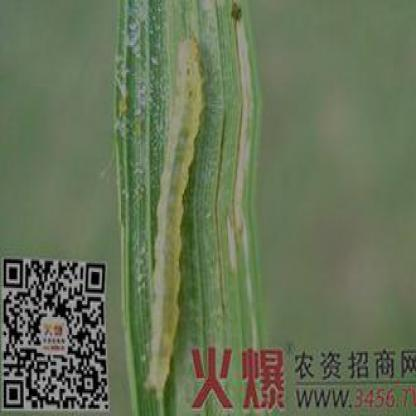leaf-folder: (144, 31, 204, 336)
